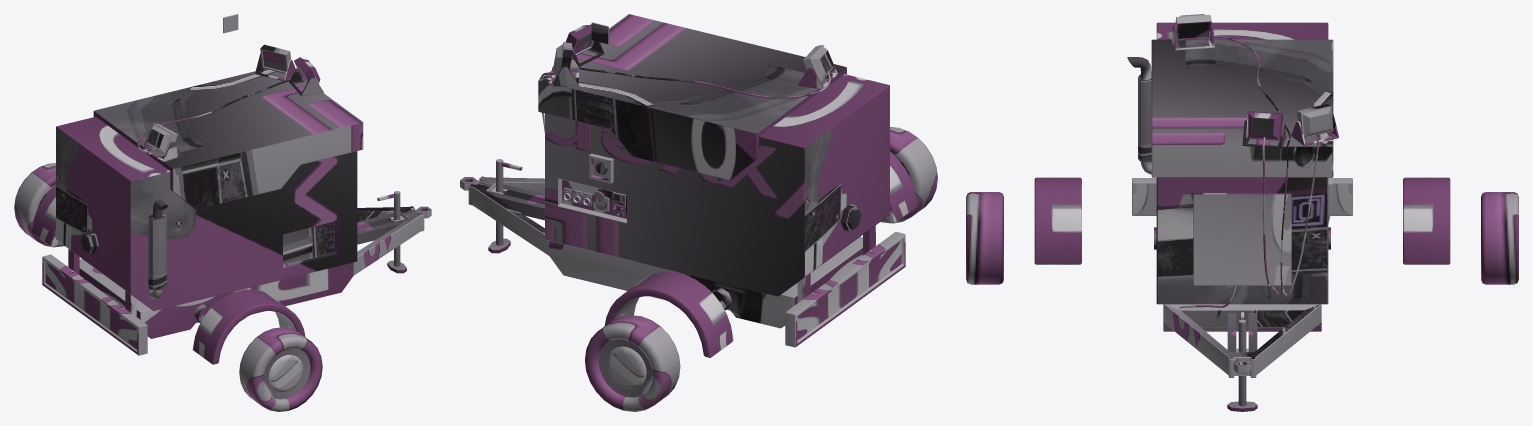
Rendered from SM_IndustrialGeneratorEXPLODED.fbx.
The picture shows the model from 3 angles, left to right: view 1: azimuth 30°, elevation 25°; view 2: azimuth 150°, elevation 25°; view 3: azimuth 270°, elevation 25°; orthographic projection. The views are drawn at different scales.
Parts seen in each view (by area): view 1: Main_Body, Top_Armor, Wheels, Frame, Wheel_MudFlaps, Rear_Bumper, Flood Lamps, Exust, Frame_1, Cube, Rear_Bumper_holder, Cables; view 2: Main_Body, Top_Armor, Wheels, Frame, Wheel_MudFlaps, Rear_Bumper, Flood Lamps, Frame_1, Cube, Cables, Button, Rear_Bumper_holder; view 3: Top_Armor, Main_Body, Front_Lid, Wheel_MudFlaps, Wheels, Frame, Flood Lamps, Cables, Rear_Bumper, Exust, Cube, Frame_1.
Boxes of the visible parts, left/top/right/bottom form: Main_Body: left=56, top=116, right=357, bottom=310; Top_Armor: left=93, top=69, right=363, bottom=209; Wheels: left=14, top=163, right=322, bottom=411; Frame: left=79, top=206, right=424, bottom=338; Wheel_MudFlaps: left=31, top=185, right=305, bottom=364; Rear_Bumper: left=42, top=254, right=147, bottom=355; Flood Lamps: left=142, top=44, right=323, bottom=161; Exust: left=148, top=200, right=168, bottom=299; Frame_1: left=357, top=213, right=406, bottom=244; Cube: left=377, top=191, right=406, bottom=273; Rear_Bumper_holder: left=68, top=249, right=136, bottom=316; Cables: left=137, top=79, right=290, bottom=152; Main_Body: left=545, top=74, right=889, bottom=296; Top_Armor: left=538, top=14, right=846, bottom=180; Wheels: left=585, top=127, right=937, bottom=411; Frame: left=468, top=176, right=862, bottom=328; Wheel_MudFlaps: left=604, top=152, right=917, bottom=357; Rear_Bumper: left=785, top=231, right=905, bottom=347; Flood Lamps: left=551, top=24, right=837, bottom=89; Frame_1: left=489, top=184, right=544, bottom=220; Cube: left=488, top=159, right=522, bottom=253; Cables: left=540, top=65, right=830, bottom=132; Button: left=589, top=153, right=613, bottom=183; Rear_Bumper_holder: left=797, top=225, right=875, bottom=302; Top_Armor: left=1151, top=39, right=1333, bottom=177; Main_Body: left=1156, top=22, right=1328, bottom=304; Front_Lid: left=1193, top=193, right=1291, bottom=285; Wheel_MudFlaps: left=1034, top=177, right=1450, bottom=264; Wheels: left=966, top=192, right=1518, bottom=284; Frame: left=1163, top=304, right=1321, bottom=377; Flood Lamps: left=1171, top=14, right=1338, bottom=148; Cables: left=1179, top=34, right=1318, bottom=308; Rear_Bumper: left=1132, top=178, right=1352, bottom=215; Exust: left=1127, top=57, right=1151, bottom=174; Cube: left=1227, top=312, right=1257, bottom=411; Frame_1: left=1227, top=313, right=1257, bottom=352.
Bounding box in the file's own units: 303 × 368 × 215.
